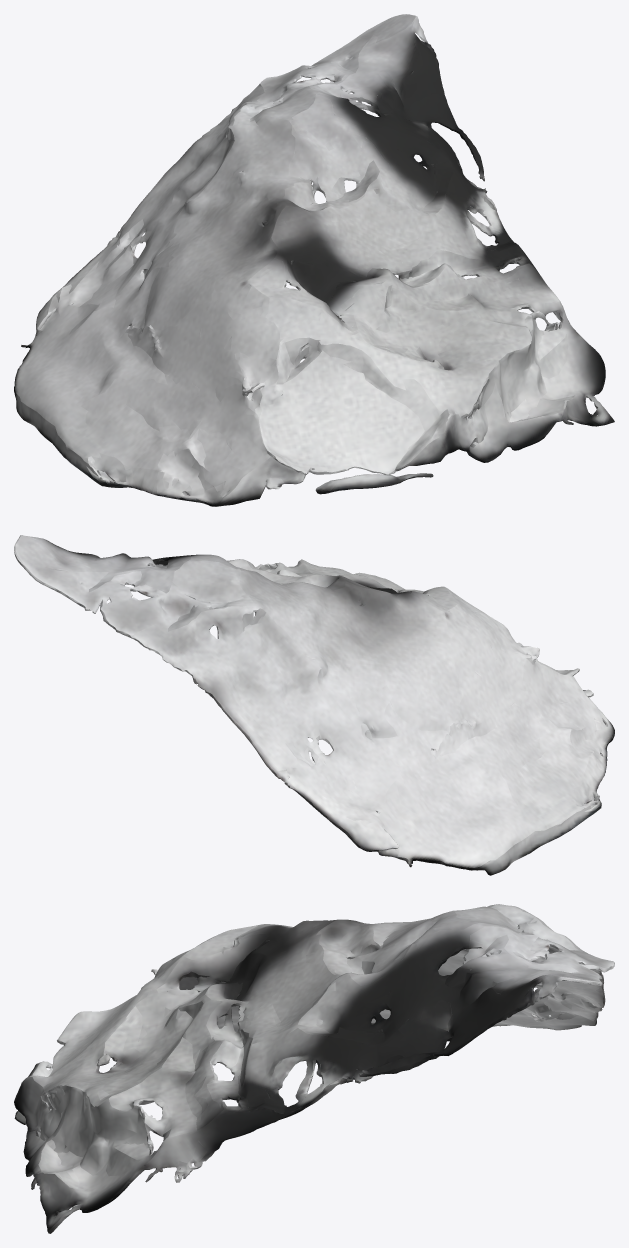
3 renders of one model, top to bottom at view 1: azimuth 30°, elevation 25°; view 2: azimuth 150°, elevation 25°; view 3: azimuth 270°, elevation 25°, orthographic. The views are drawn at different scales.
Parts seen in each view (by area): view 1: world; view 2: world; view 3: world.
Boxes of the visible parts, bbox=[...] form: world: bbox=[14, 14, 614, 506]; world: bbox=[14, 535, 614, 875]; world: bbox=[14, 904, 614, 1233].
Size of the model in its own units: 0.12 by 0.0667 by 0.1204.
Materials: 1 (1 with a texture image).
